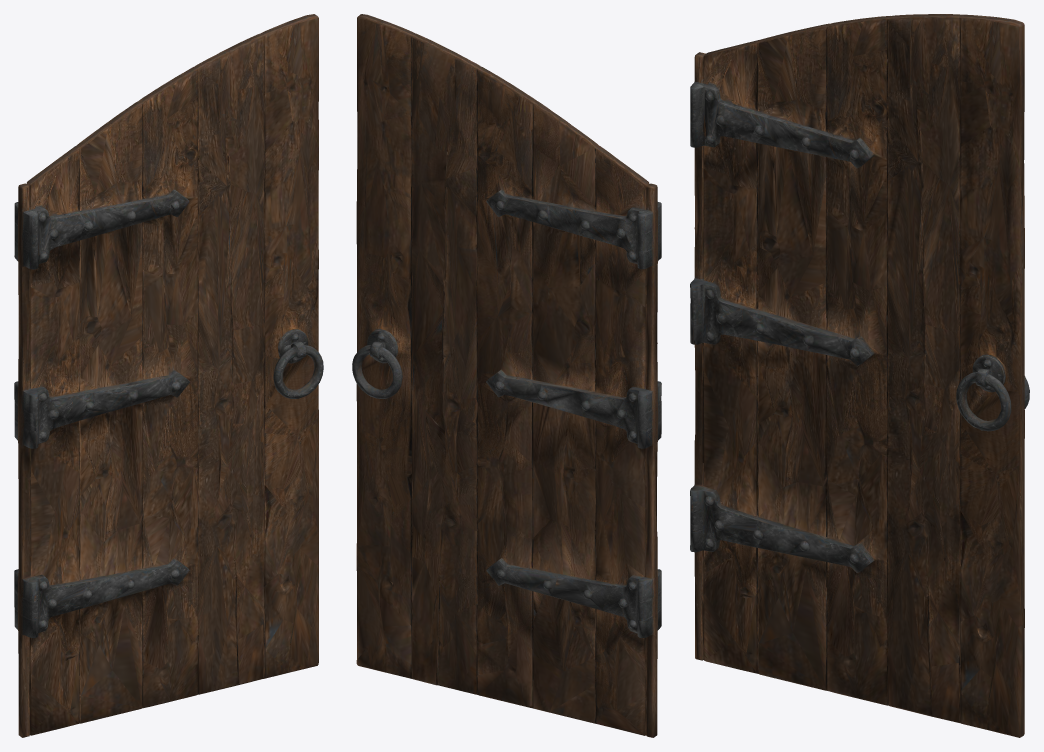
The model's file is door_leaf_oak.glb.
The picture shows the model from 3 angles, left to right: view 1: azimuth 30°, elevation 25°; view 2: azimuth 150°, elevation 25°; view 3: azimuth 330°, elevation 25°; orthographic projection. The views are drawn at different scales.
Visible parts, largest first — view 1: door_leaf_oak; view 2: door_leaf_oak; view 3: door_leaf_oak.
Part boxes in pixels (<box>): door_leaf_oak: <box>14,14,323,737</box>; door_leaf_oak: <box>352,14,661,737</box>; door_leaf_oak: <box>690,14,1029,737</box>.
Bounding box in the file's own units: 0.9119 × 1.9 × 0.1313.
1 material, 1 textured.
